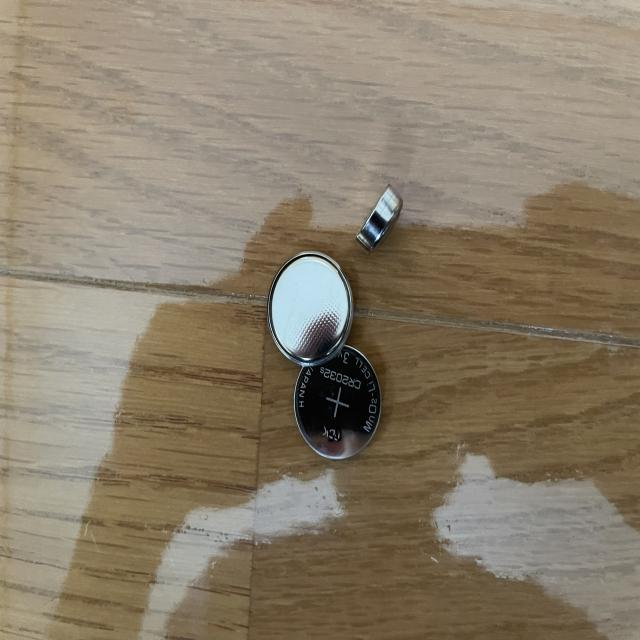COIN: (292, 341, 384, 461), (265, 250, 355, 366), (356, 182, 405, 255)
